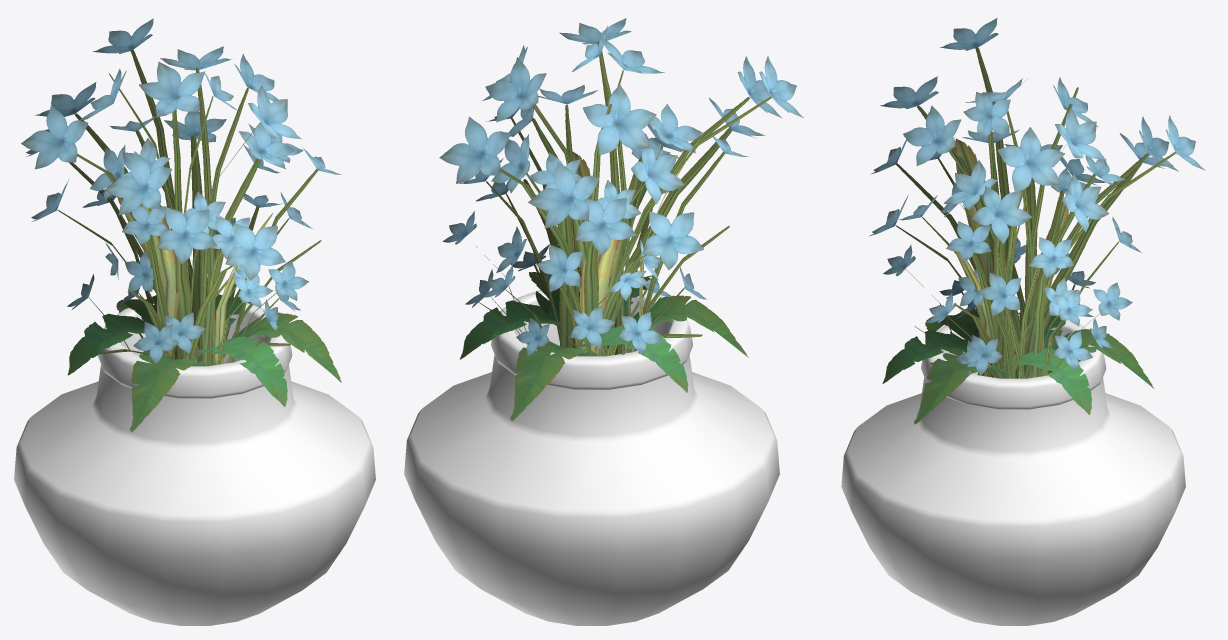
The model's file is SM_Potted_Blue_Flower_B.fbx.
3 views of the same model, side by side, from view 1: azimuth 30°, elevation 25°; view 2: azimuth 150°, elevation 25°; view 3: azimuth 270°, elevation 25° (orthographic). The views are drawn at different scales.
Parts seen in each view (by area): view 1: SM_Potted_Blue_Flower_B_LOD0; view 2: SM_Potted_Blue_Flower_B_LOD0; view 3: SM_Potted_Blue_Flower_B_LOD0.
Boxes of the visible parts, x1,y1,x2,y2 form: SM_Potted_Blue_Flower_B_LOD0: (14, 18, 375, 625); SM_Potted_Blue_Flower_B_LOD0: (404, 18, 803, 625); SM_Potted_Blue_Flower_B_LOD0: (841, 18, 1205, 625).
Bounding box in the file's own units: 46.86 × 46.2 × 69.81.
Materials: 2 (1 with a texture image).
